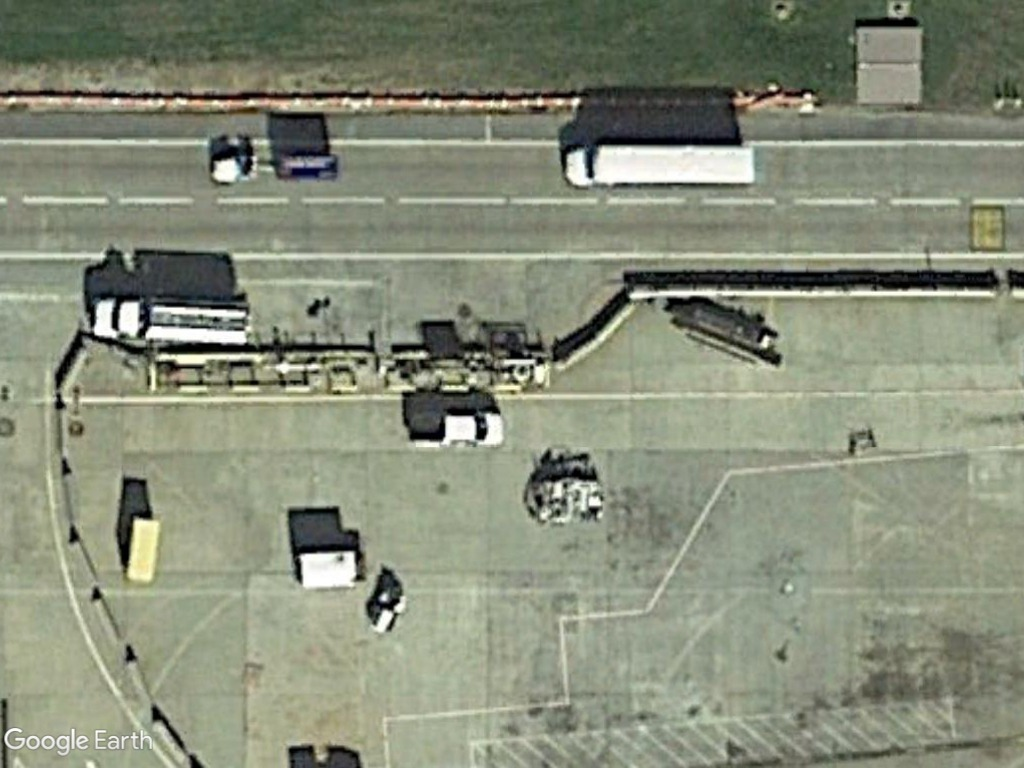other: (400, 401, 508, 453)
van: (556, 139, 762, 193)
